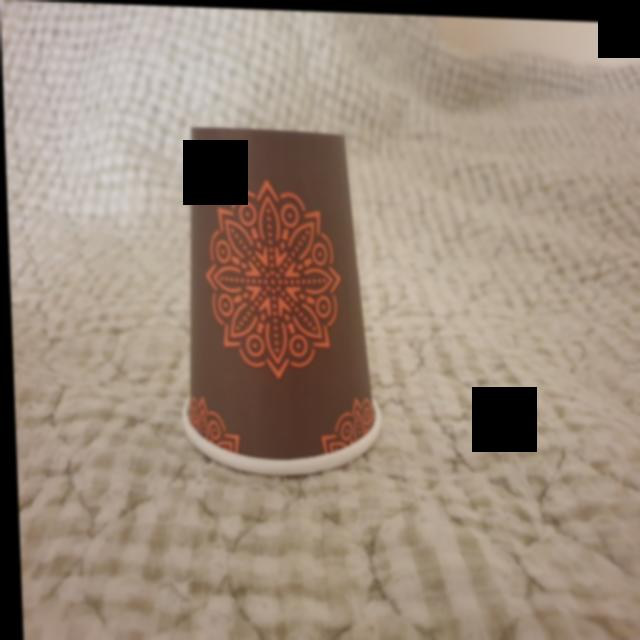cups: (166, 114, 383, 480)
